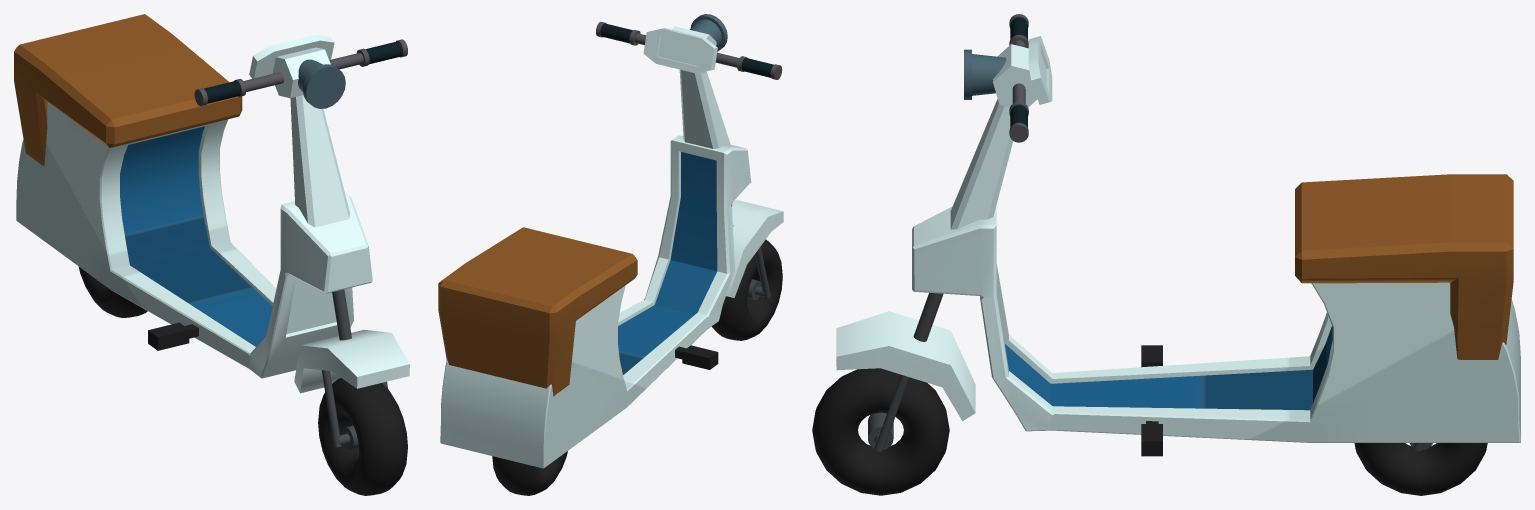
File: electric bike.fbx
3 views of the same model, side by side, from view 1: azimuth 30°, elevation 25°; view 2: azimuth 150°, elevation 25°; view 3: azimuth 270°, elevation 25° (orthographic). The views are drawn at different scales.
Parts seen in each view (by area): view 1: electric_bike3; view 2: electric_bike3; view 3: electric_bike3.
Boxes of the visible parts, x1=… form: electric_bike3: x1=14, y1=14, x2=409, y2=495; electric_bike3: x1=438, y1=14, x2=783, y2=495; electric_bike3: x1=812, y1=14, x2=1520, y2=495.
Bounding box in the file's own units: 1.72 × 3.2 × 4.64.
1 material, 1 textured.
